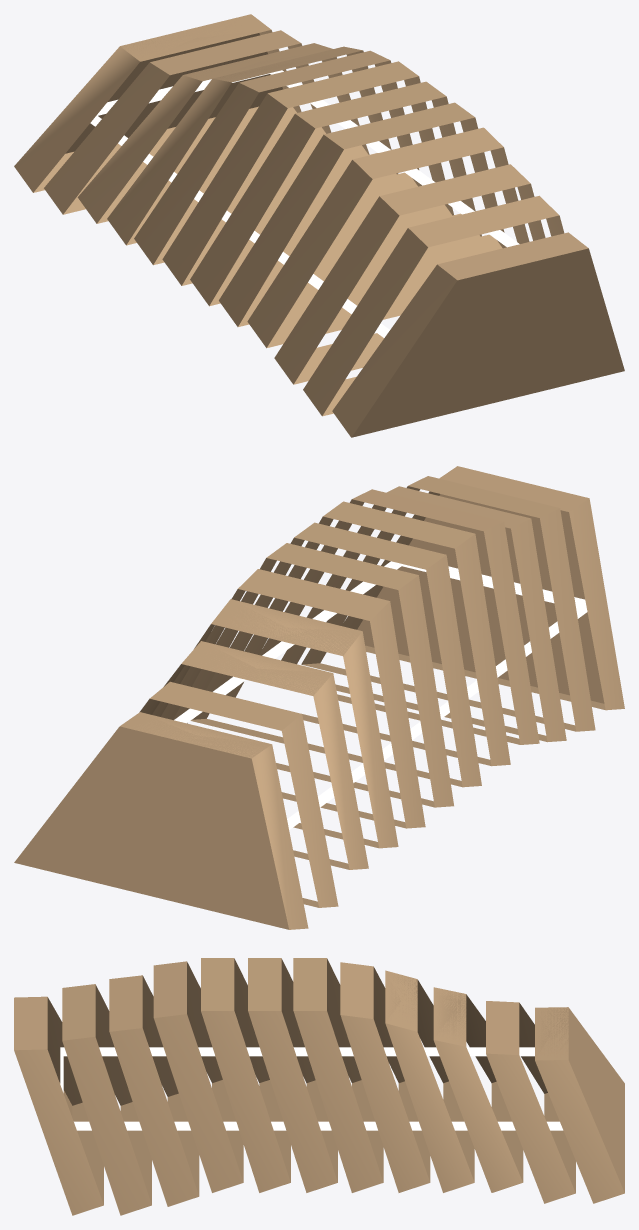
Rendered from Bench_w_light.glb.
3 views of the same model, one above another, from view 1: azimuth 30°, elevation 25°; view 2: azimuth 150°, elevation 25°; view 3: azimuth 270°, elevation 25° (orthographic). The views are drawn at different scales.
Parts seen in each view (by area): view 1: Sweep.12, Sweep.3, Sweep.10, Sweep.2, Sweep.5, Sweep.4, Sweep.1, Sweep.6, Sweep.11, Sweep.9, Sweep.8, Sweep.7 (+1 smaller); view 2: Sweep.10, Sweep.12, Sweep.4, Sweep.6, Sweep.7, Sweep.3, Sweep.5, Sweep.11, Sweep.8, Sweep.2, Sweep.1, Sweep.9 (+1 smaller); view 3: Sweep.10, Sweep.11, Sweep.2, Sweep.1, Sweep.3, Sweep.5, Sweep.4, Sweep.12, Sweep.6, Sweep.7, Sweep.8, Sweep.9 (+1 smaller).
Boxes of the visible parts, box(x1,y1,x2,y2) form: Sweep.12: box(332, 232, 624, 437); Sweep.3: box(219, 102, 506, 326); Sweep.10: box(14, 14, 301, 192); Sweep.2: box(247, 127, 529, 348); Sweep.5: box(162, 61, 453, 285); Sweep.4: box(190, 81, 481, 306); Sweep.1: box(274, 164, 545, 384); Sweep.6: box(134, 50, 421, 265); Sweep.11: box(303, 195, 564, 416); Sweep.9: box(44, 30, 331, 214); Sweep.8: box(77, 43, 369, 223); Sweep.7: box(107, 46, 398, 245); Sweep.10: box(14, 712, 308, 929); Sweep.12: box(342, 466, 624, 710); Sweep.4: box(190, 522, 481, 787); Sweep.6: box(161, 569, 425, 828); Sweep.7: box(152, 599, 398, 848); Sweep.3: box(226, 501, 510, 766); Sweep.5: box(173, 543, 453, 807); Sweep.11: box(301, 476, 595, 731); Sweep.8: box(148, 641, 368, 869); Sweep.2: box(259, 489, 539, 744); Sweep.1: box(281, 486, 566, 742); Sweep.9: box(139, 681, 338, 907); Sweep.10: box(535, 1007, 624, 1203); Sweep.11: box(62, 984, 151, 1215); Sweep.2: box(153, 961, 243, 1192); Sweep.1: box(109, 975, 199, 1206); Sweep.3: box(201, 958, 290, 1192); Sweep.5: box(293, 958, 383, 1192); Sweep.4: box(248, 958, 337, 1192); Sweep.12: box(14, 996, 103, 1215); Sweep.6: box(340, 962, 430, 1192); Sweep.7: box(385, 970, 474, 1192); Sweep.8: box(433, 987, 523, 1192); Sweep.9: box(486, 1001, 575, 1203).
Size of what is drawn, in the model's own units: 15.58 by 11.57 by 36.36.
